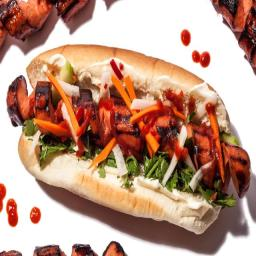hotdog: (4, 41, 253, 237)
